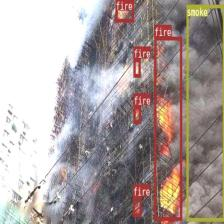fire: (154, 36, 181, 219), (114, 0, 134, 21), (133, 196, 141, 216), (133, 105, 141, 123), (133, 58, 140, 77)
smoke: (186, 4, 224, 220)
